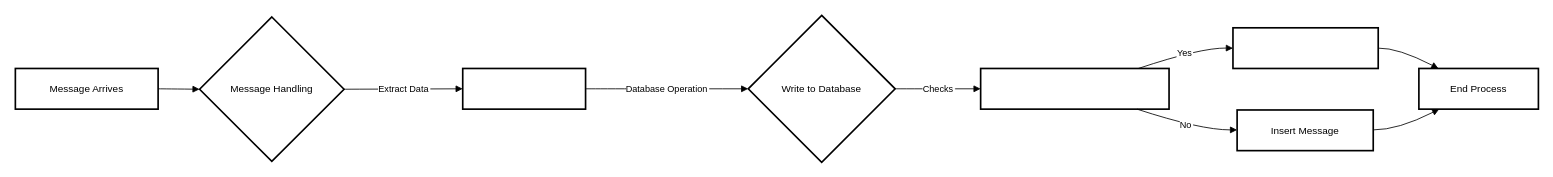
The diagram is 1553 pixels wide and 177 high, and some of its shapes have lost their labels. The shapes that lost their labels are listed below. From the top down, each one's centre as x and y in pixels, then its label:
At (1305,48): "Update Message".
At (523,88): "Handle Data".
At (1074,88): "Check if Lead Exists".
